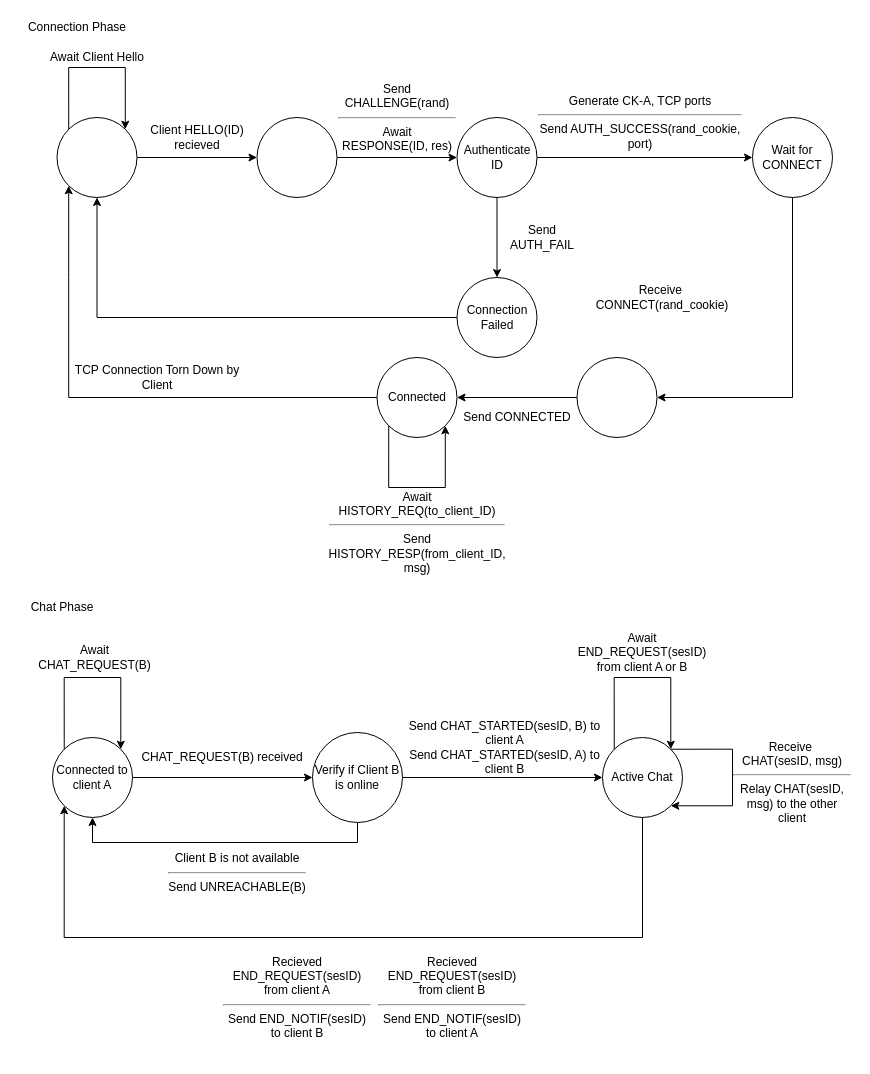
The diagram is 870 pixels wide and 1074 high, and some of its shapes have lost their labels. The centre of each missing label's shape, as x and y in pixels:
Connecting: the point at 616,397
Online: the point at 96,157
Verify Client ID: the point at 296,157
